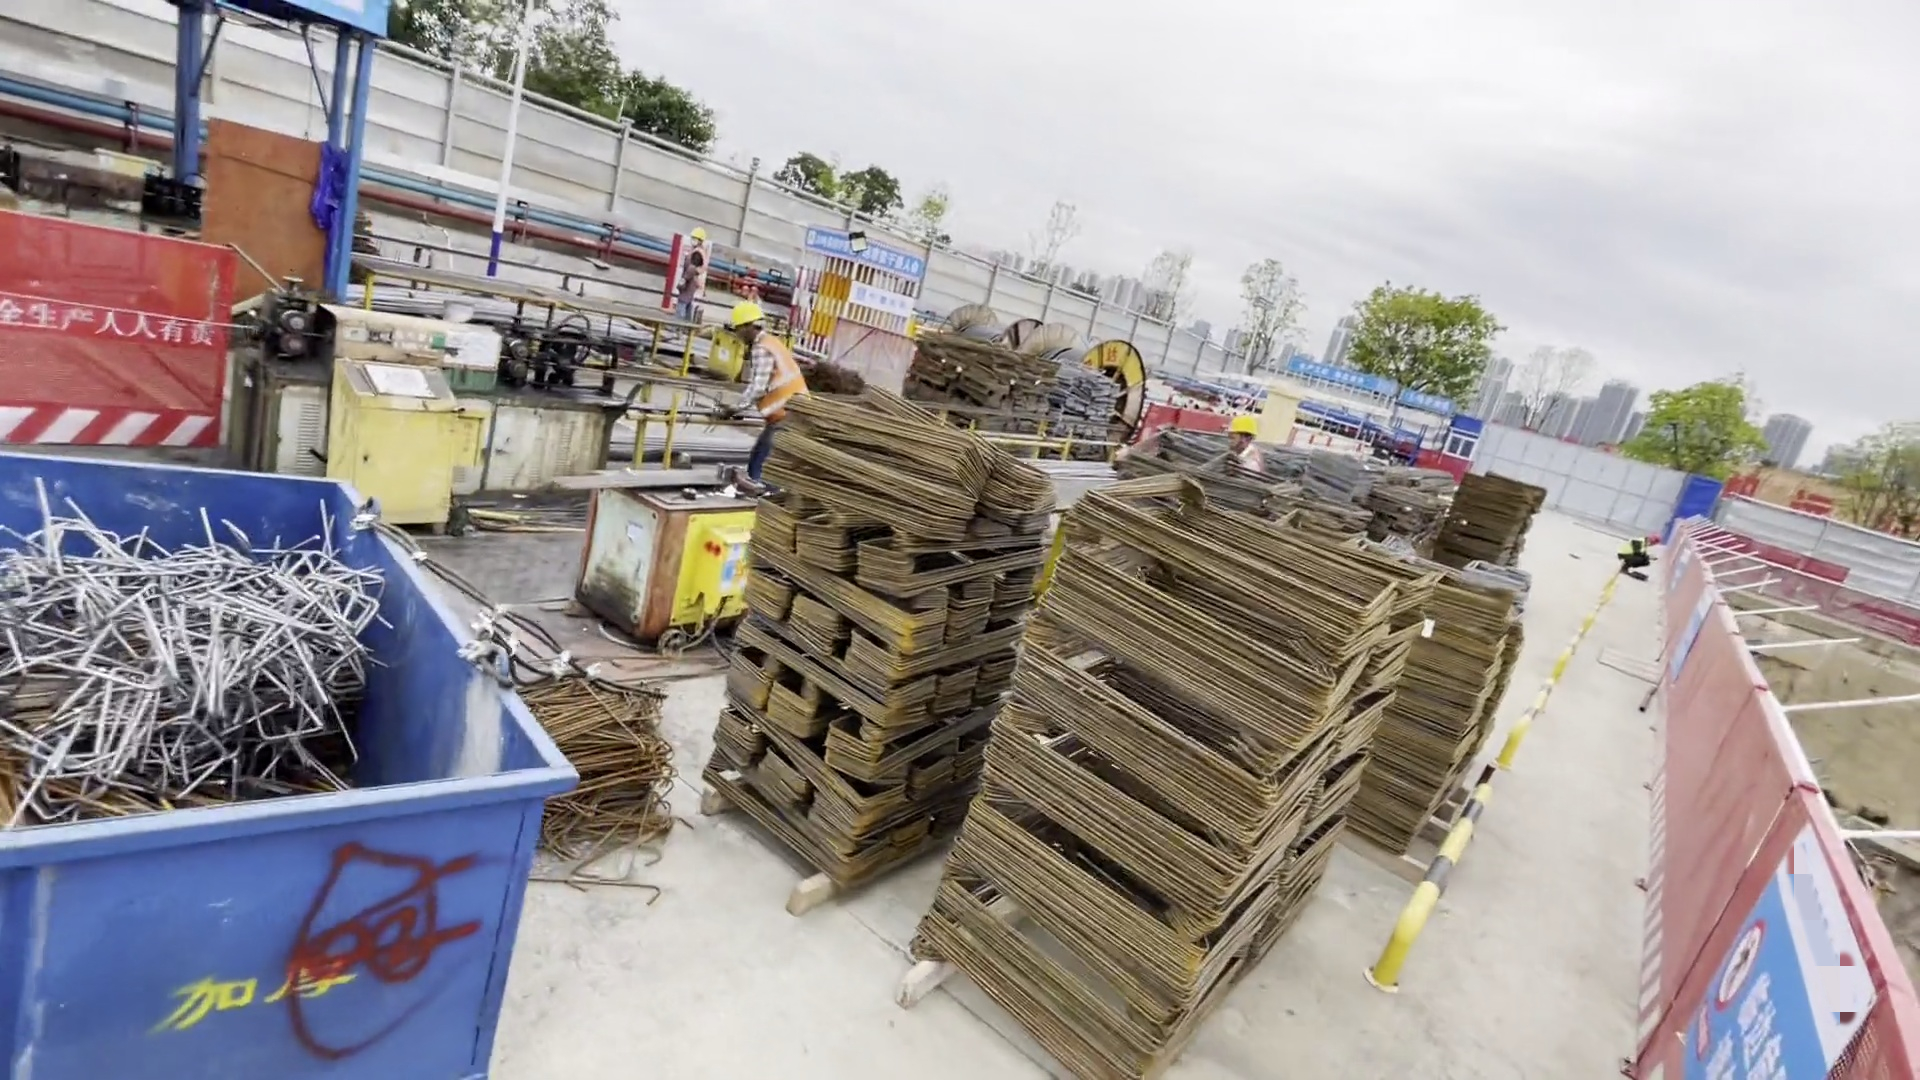ebox: (1251, 373, 1303, 452)
fence: (1644, 532, 1893, 1080), (1, 230, 270, 422)
helmet: (729, 302, 764, 330), (1219, 415, 1253, 433), (687, 226, 707, 238)
hopper: (1, 454, 559, 1078)
person: (717, 305, 809, 491), (679, 226, 709, 323), (1217, 413, 1266, 474), (1615, 530, 1664, 583)
slogan: (1681, 894, 1832, 1080), (859, 243, 931, 279), (1296, 361, 1377, 390)
vest: (745, 340, 810, 418), (691, 247, 708, 298)
